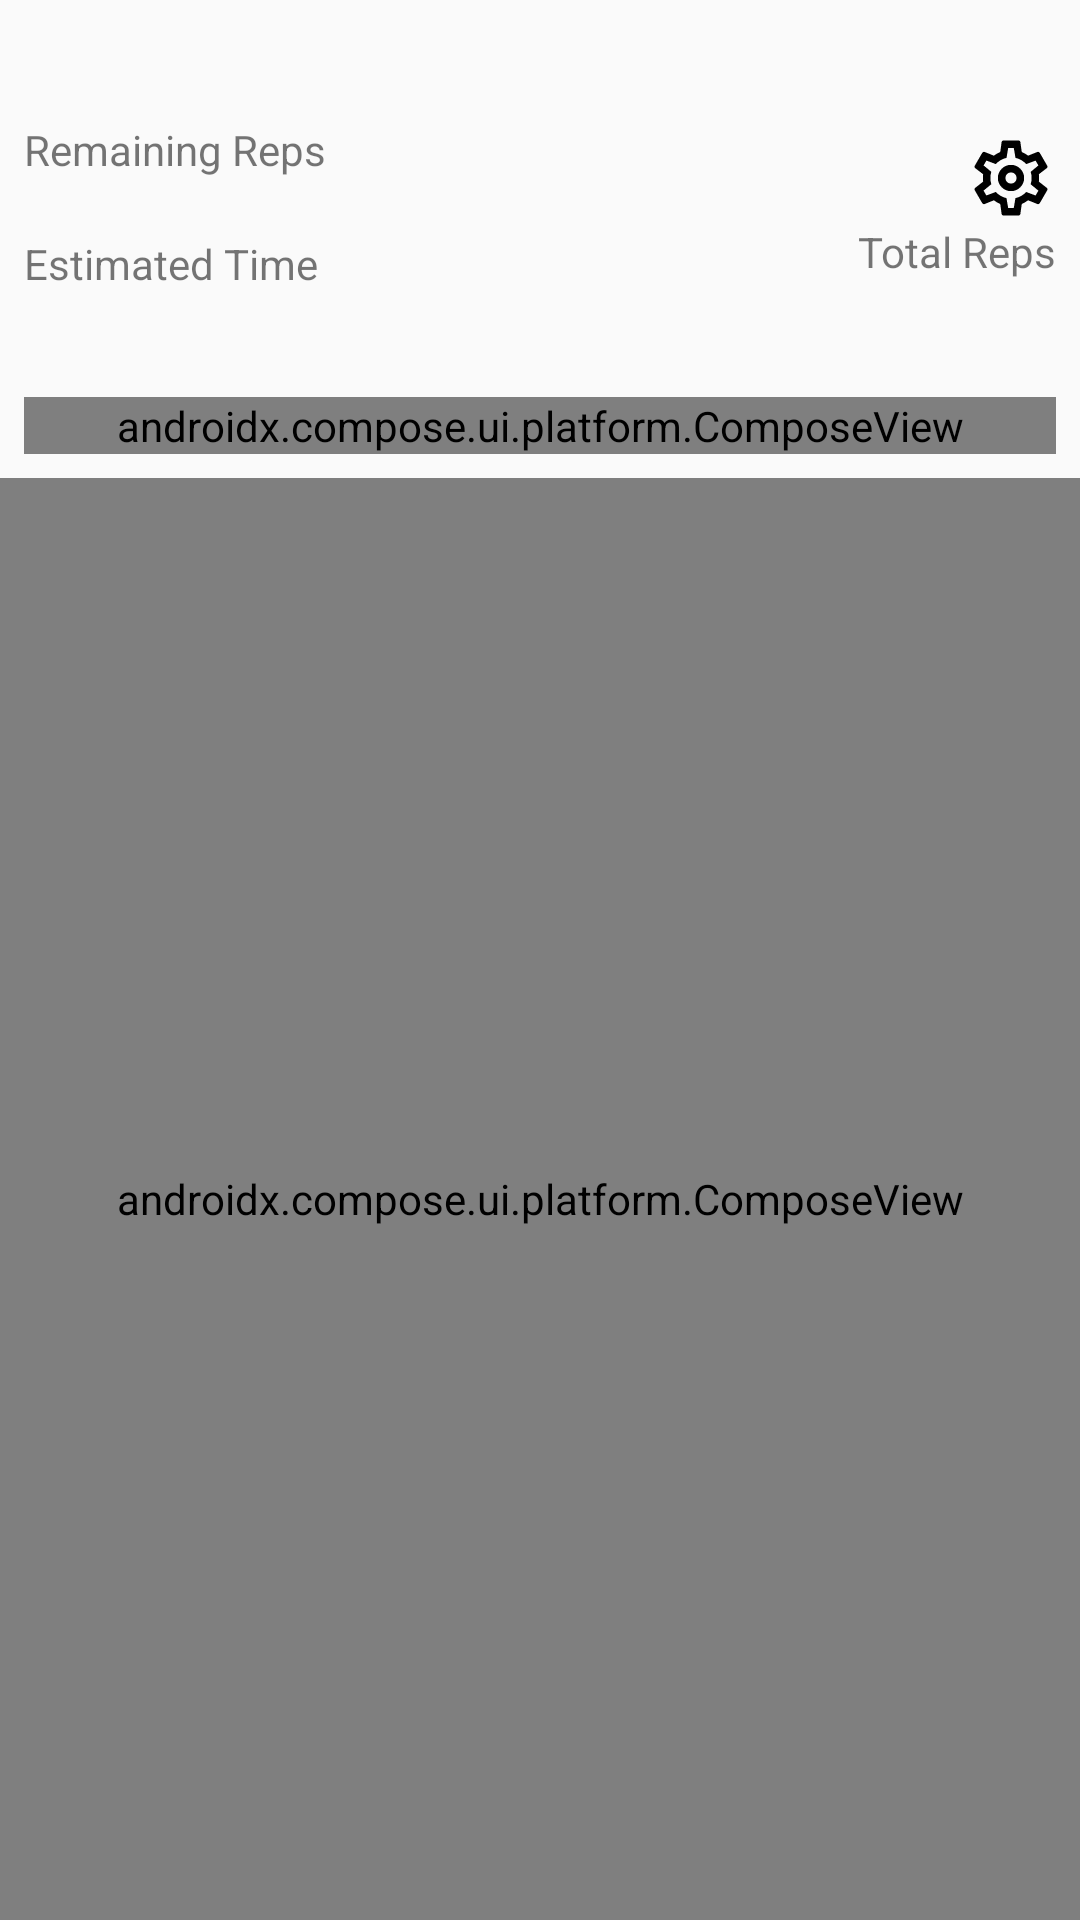

Point at icon controls on the screen. Image size 1080px×1920px, points as [x,y].
Course Settings: [1011,178]
